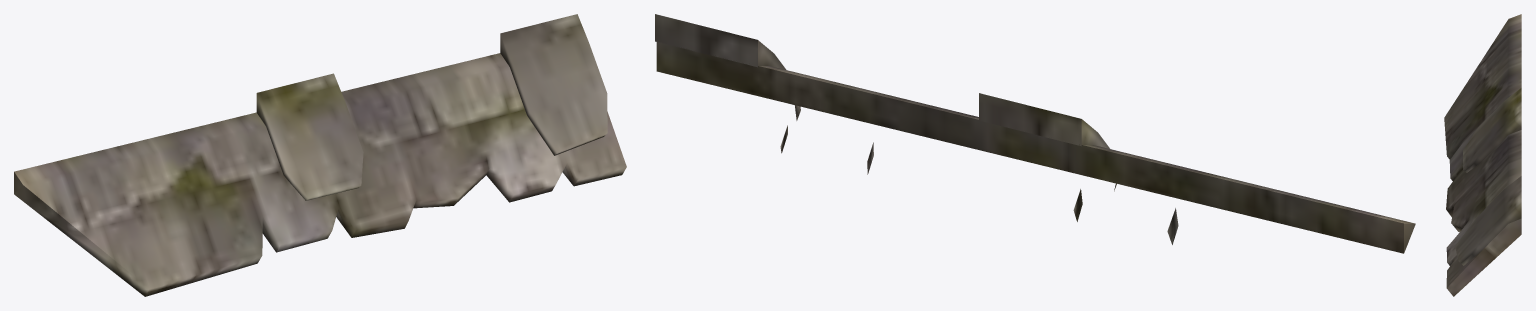
Rendered from roof.wood.corner.90.concave.l.top.line.glb.
3 renders of one model, left to right at view 1: azimuth 30°, elevation 25°; view 2: azimuth 150°, elevation 25°; view 3: azimuth 270°, elevation 25°, orthographic. The views are drawn at different scales.
Visible parts, largest first — view 1: model; view 2: model; view 3: model.
Boxes of the visible parts, left/top/right/bottom form: model: left=14, top=14, right=626, bottom=296; model: left=655, top=14, right=1415, bottom=253; model: left=1444, top=14, right=1521, bottom=296.
Size of the model in its own units: 3.01 by 0.6667 by 0.4832.
Materials: 1 (1 with a texture image).
